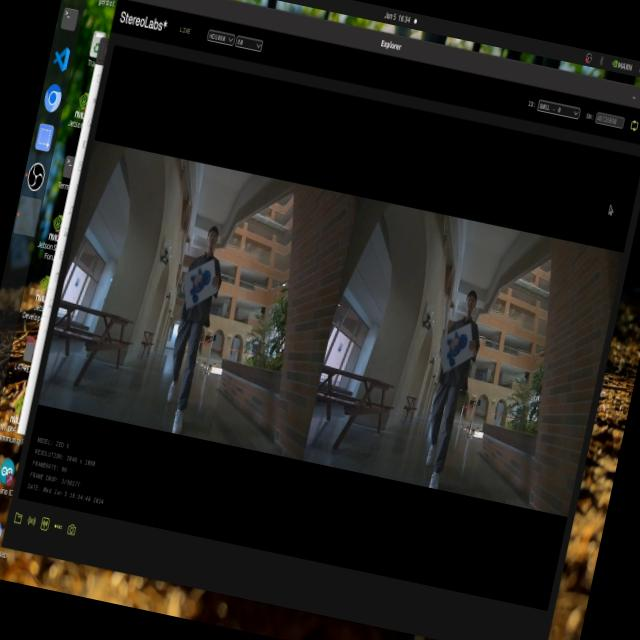blue: (180, 262, 216, 311), (435, 323, 470, 371)
